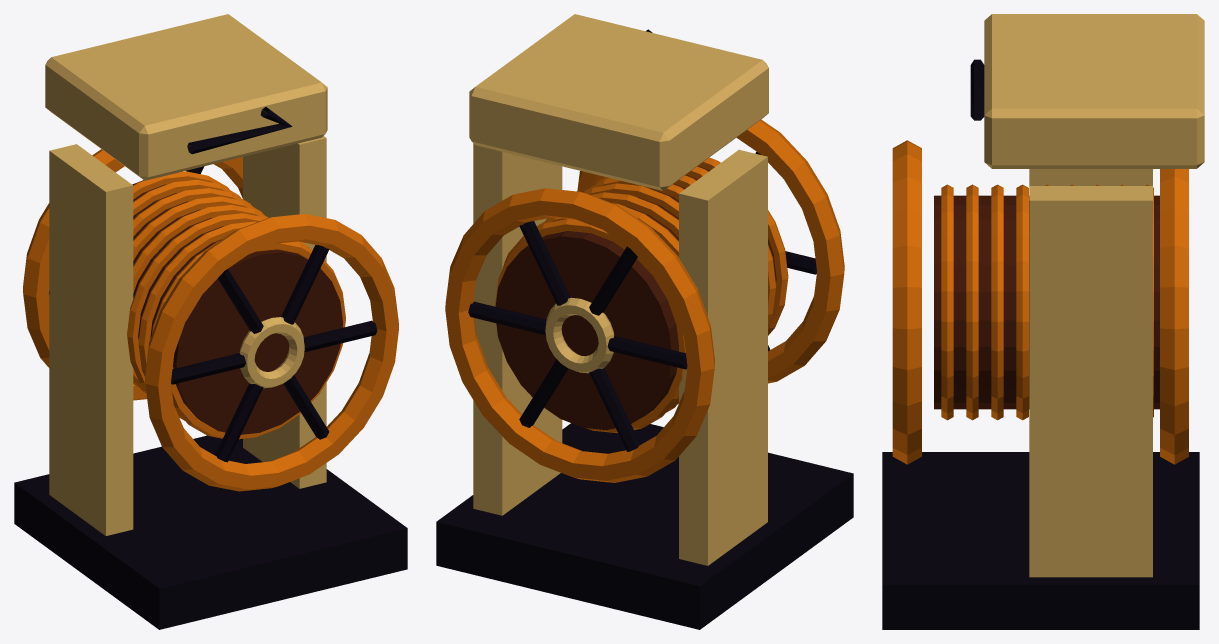
The model's file is flywheel_accumulator_r12.fbx.
3 views of the same model, side by side, from view 1: azimuth 30°, elevation 25°; view 2: azimuth 150°, elevation 25°; view 3: azimuth 270°, elevation 25° (orthographic). The views are drawn at different scales.
Parts seen in each view (by area): view 1: Part_0, Part_-1, Part_1, Part_2; view 2: Part_0, Part_-1, Part_1; view 3: Part_0, Part_-1, Part_1.
Boxes of the visible parts, x1,y1,x2,y2 form: Part_0: (23,109,398,535); Part_-1: (14,435,407,629); Part_1: (45,14,327,177); Part_2: (226,214,325,491); Part_0: (445,115,844,565); Part_-1: (436,423,853,629); Part_1: (469,14,768,187); Part_0: (892,140,1203,577); Part_-1: (882,452,1199,629); Part_1: (970,14,1204,165).
Size of the model in its own units: 1.72 by 2.97 by 1.73.
